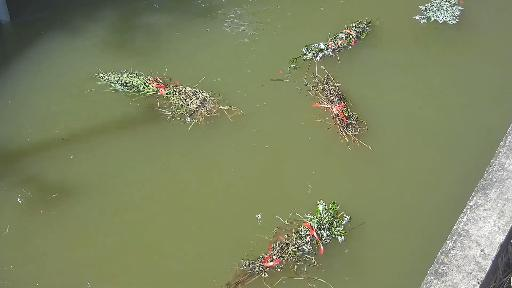twig: (207, 205, 354, 286), (98, 62, 246, 139), (279, 13, 386, 69), (315, 70, 372, 150), (413, 0, 512, 25)
